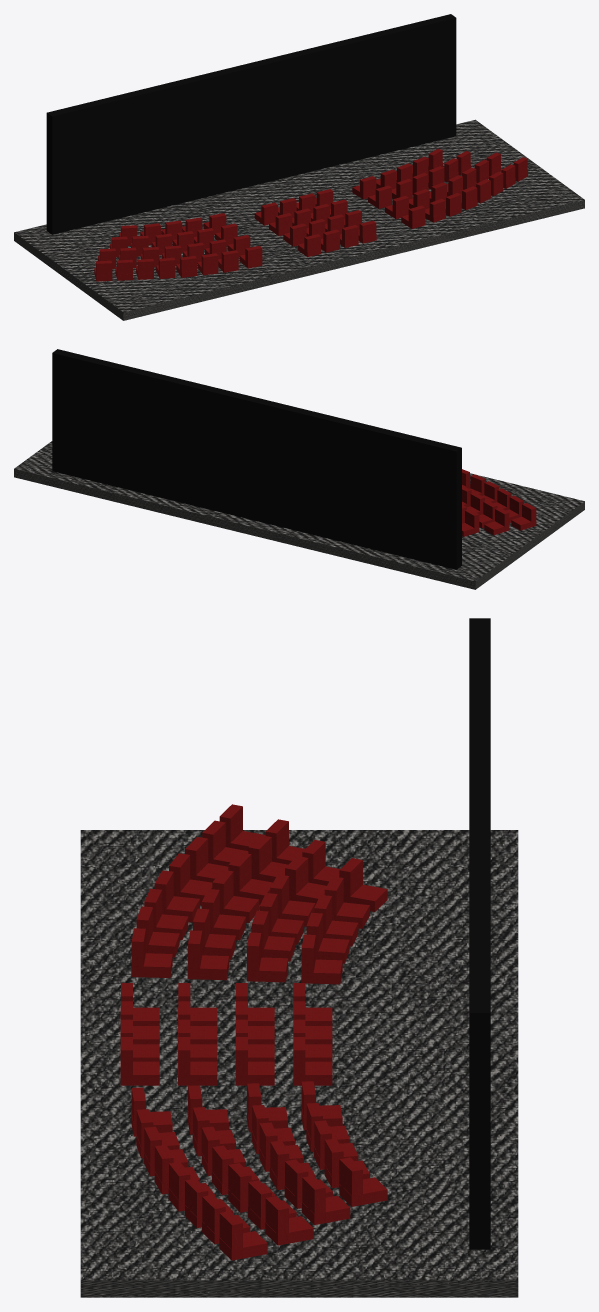
Rendered from filmhallNEW.obj.
3 views of the same model, one above another, from view 1: azimuth 30°, elevation 25°; view 2: azimuth 150°, elevation 25°; view 3: azimuth 270°, elevation 25° (orthographic). The views are drawn at different scales.
Parts seen in each view (by area): view 1: Box01, Box02; view 2: Box01, Box02; view 3: Box02, Box01, Box228, Box223, Box216, Box251.
Part boxes in pixels (x1,y1,x2,y2): Box01: (46,14,456,234); Box02: (14,119,584,320); Box01: (52,349,461,569); Box02: (14,441,584,589); Box02: (80,830,518,1297); Box01: (469,618,490,1249); Box228: (302,1175,325,1224); Box223: (265,1196,288,1245); Box216: (219,1211,242,1260); Box251: (187,955,228,980).
Bounding box in the file's own units: 1624 × 427 × 667.
